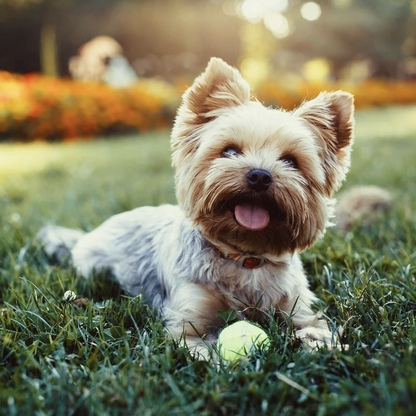yorkshire: (70, 55, 356, 352)
